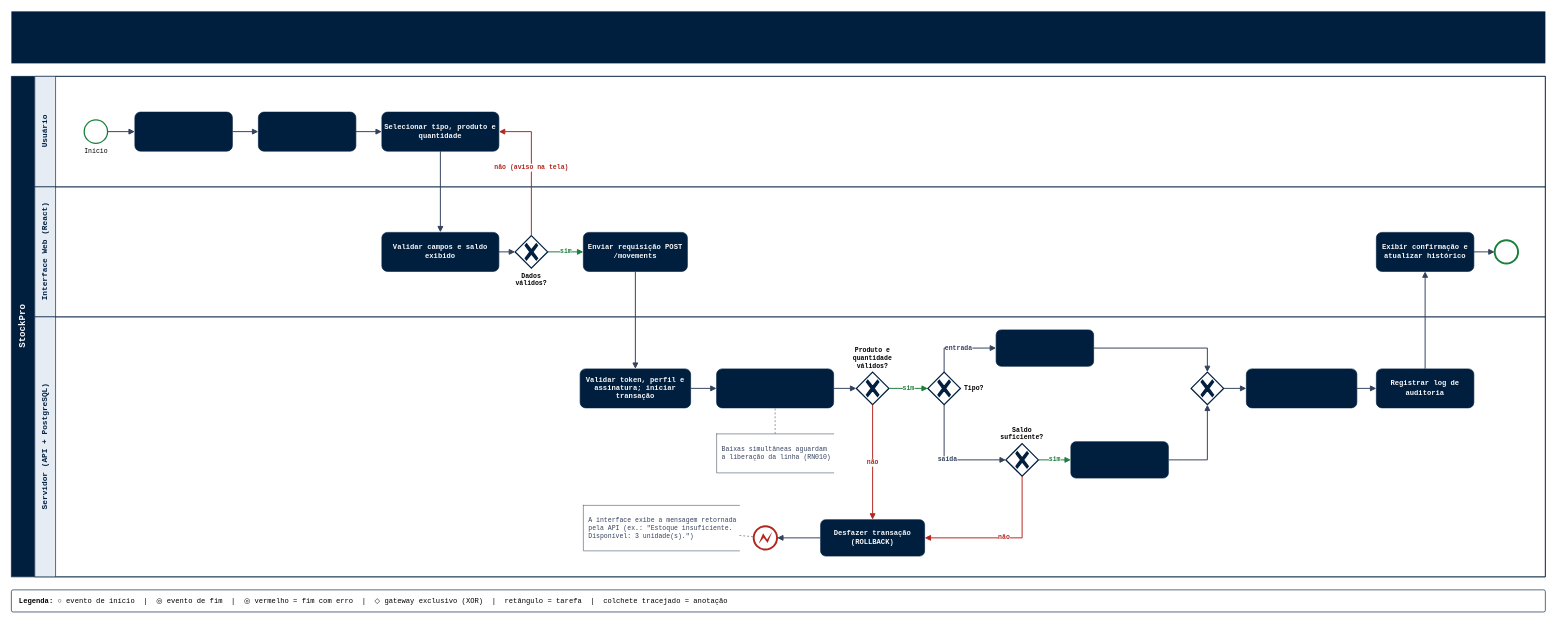
Some shapes in this 1563 by 623 pixel diagram are drawn without their labels. Each missing label, with the centre of its shape:
"Abrir Nova Movimentação" goes at pixel 307 131.
"Autenticar-se no sistema" goes at pixel 183 131.
"Bloquear e ler o produto (SELECT ... FOR UPDATE)" goes at pixel 775 388.
"Gravar movimentação e confirmar (COMMIT)" goes at pixel 1301 388.
"Movimentação recusada" goes at pixel 765 538.
"Movimentação registrada" goes at pixel 1506 252.
"Processo de Movimentação de Estoque - StockPro (BPMN)" goes at pixel 778 37.
"Somar quantidade ao saldo" goes at pixel 1044 347.
"Subtrair quantidade do saldo" goes at pixel 1119 459.
